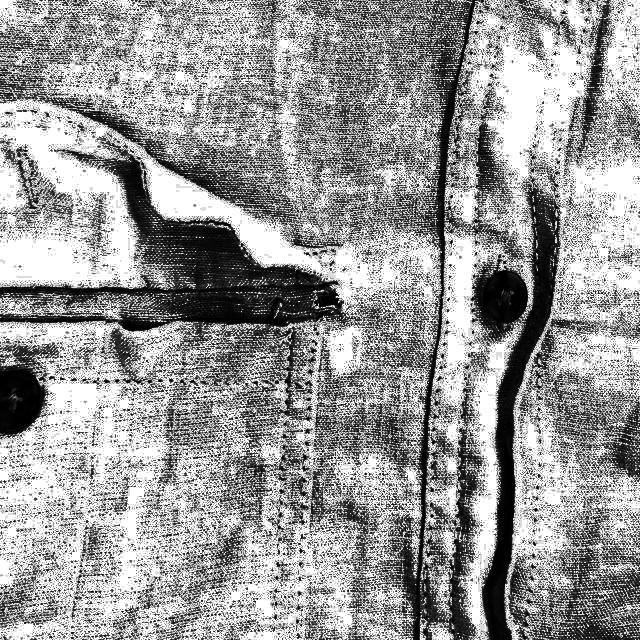Hole: (307, 280, 356, 321)
